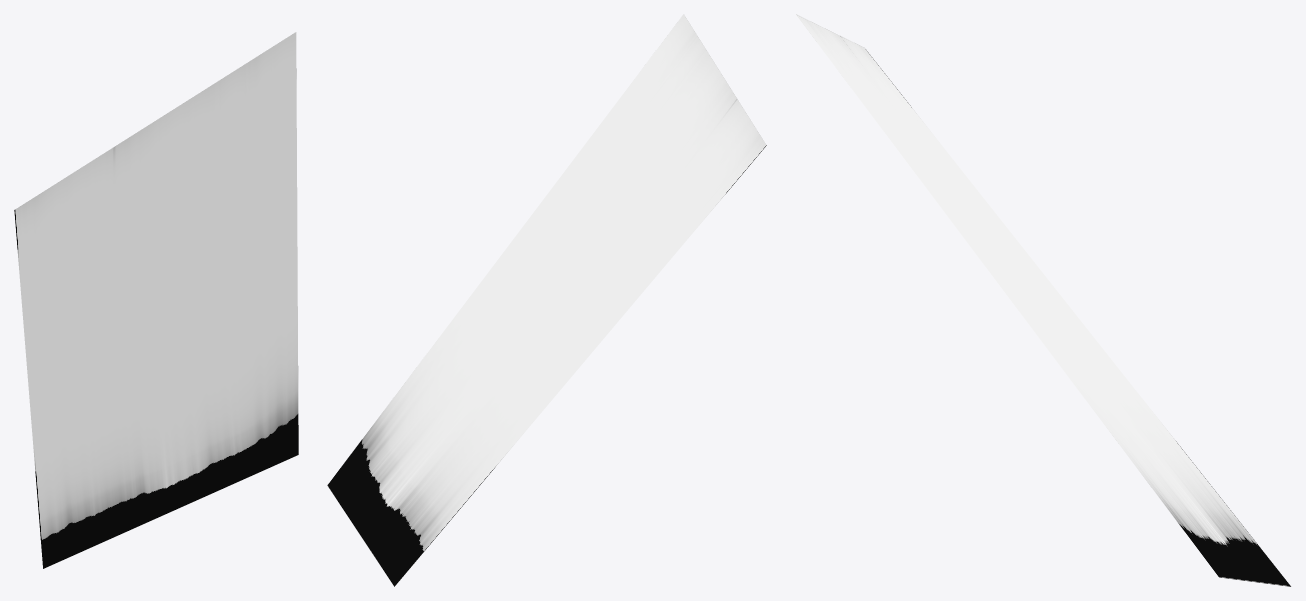
The model's file is LightShaftVert.glb.
The picture shows the model from 3 angles, left to right: view 1: azimuth 30°, elevation 25°; view 2: azimuth 150°, elevation 25°; view 3: azimuth 270°, elevation 25°; orthographic projection. The views are drawn at different scales.
Visible parts, largest first — view 1: Plane.001; view 2: Plane.001; view 3: Plane.001.
Part boxes in pixels (left/top/right/bottom): Plane.001: left=14, top=32, right=298, bottom=568; Plane.001: left=327, top=14, right=766, bottom=586; Plane.001: left=796, top=14, right=1290, bottom=586.
Size of the model in its own units: 3.4 by 4.92 by 4.21.
Materials: 1 (1 with a texture image).
